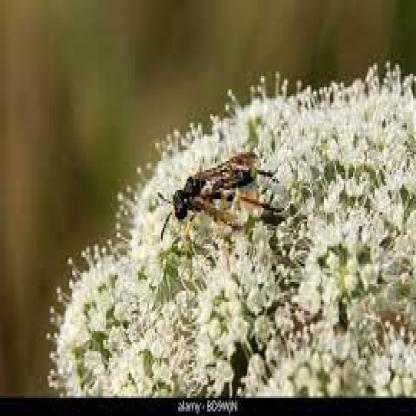sawfly: (150, 144, 286, 238)
